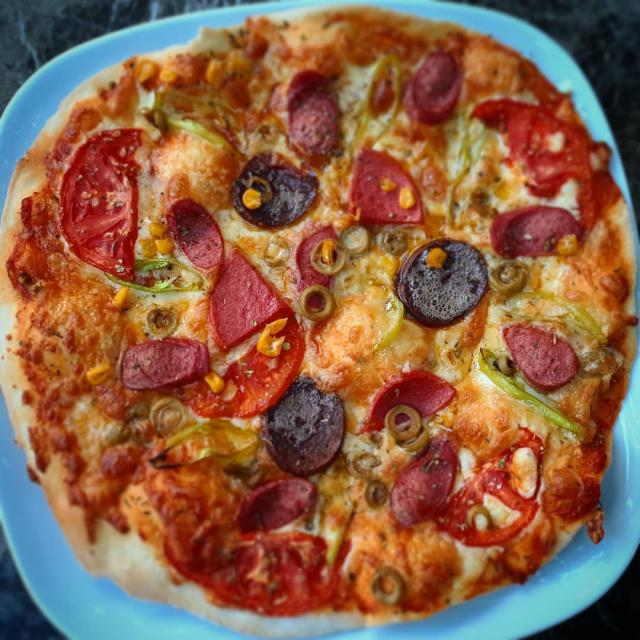green_olives: (102, 397, 188, 443), (337, 218, 416, 258), (349, 432, 387, 512), (382, 401, 433, 453), (291, 276, 338, 324), (366, 560, 407, 609), (486, 256, 529, 298), (137, 306, 181, 340), (310, 238, 348, 277), (579, 340, 612, 380), (259, 233, 291, 270), (244, 170, 275, 200)
pepperoni: (260, 373, 350, 478), (200, 247, 286, 350), (395, 235, 486, 330), (229, 145, 318, 231), (348, 144, 428, 225), (388, 437, 459, 528), (366, 368, 458, 436), (500, 320, 580, 397), (231, 474, 321, 537), (488, 203, 586, 260), (112, 339, 208, 392), (286, 73, 342, 163), (167, 190, 228, 270), (407, 47, 462, 126), (296, 226, 337, 290)
pizza: (0, 6, 635, 635)
tomatoes: (469, 91, 602, 226), (151, 522, 340, 614), (172, 315, 311, 420), (56, 124, 142, 286), (429, 428, 544, 545)
